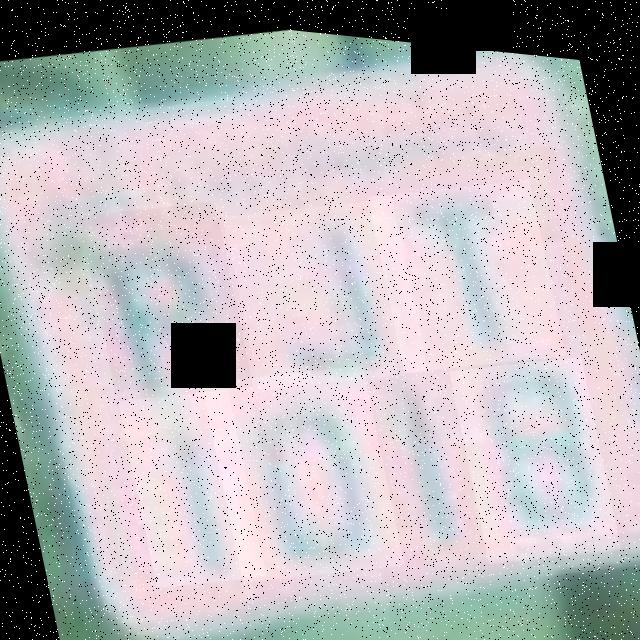0: (201, 344, 404, 590)
1: (336, 336, 497, 577), (116, 366, 266, 593)
8: (449, 333, 621, 564)
J: (222, 176, 428, 397)
P: (79, 185, 254, 409)
T: (368, 154, 566, 377)
